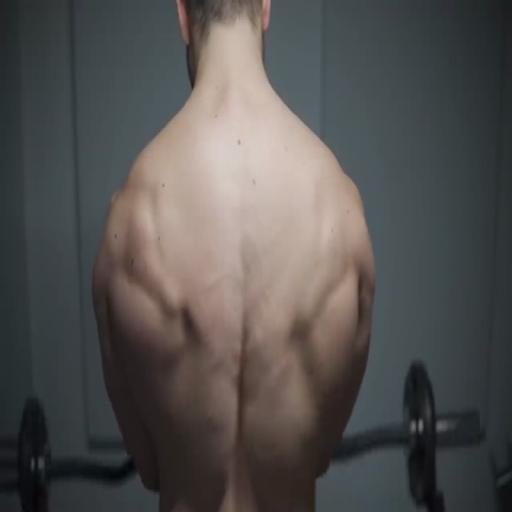exercise: (90, 0, 378, 511)
